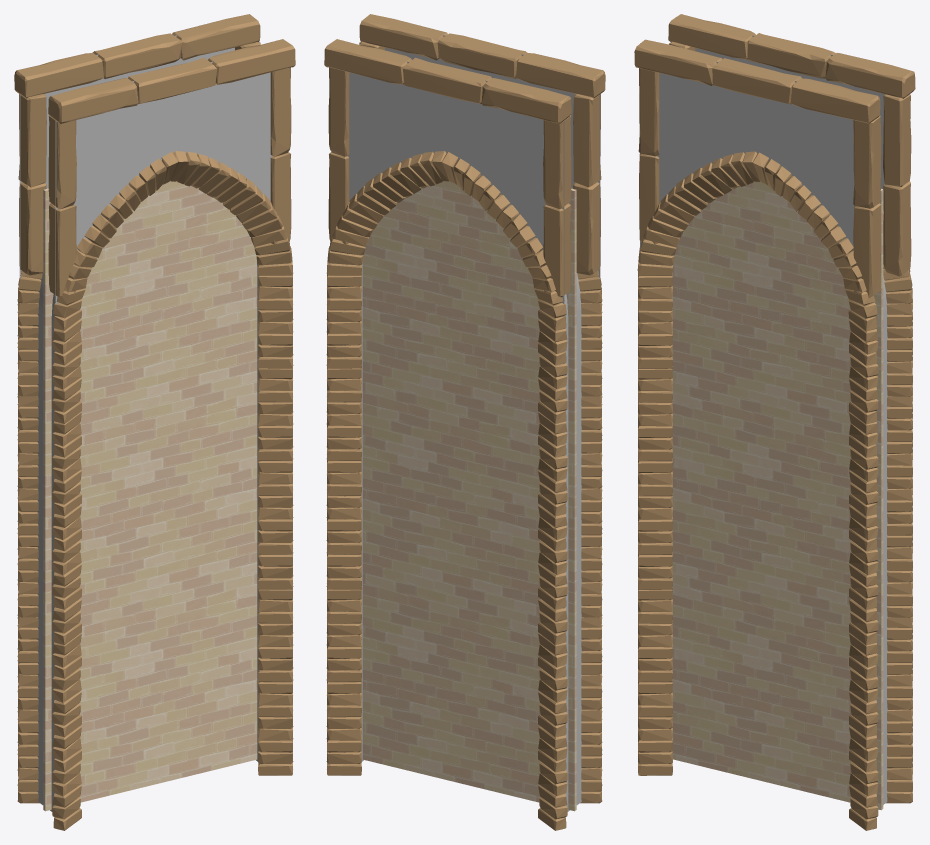
Rendered from SM_wall_arch_02.fbx.
3 views of the same model, side by side, from view 1: azimuth 30°, elevation 25°; view 2: azimuth 150°, elevation 25°; view 3: azimuth 330°, elevation 25° (orthographic).
Parts seen in each view (by area): view 1: Object32748; view 2: Object32748; view 3: Object32748.
Part boxes in pixels (box(x1,y1,x2,y2)): Object32748: box(14, 14, 295, 830); Object32748: box(324, 14, 605, 830); Object32748: box(634, 14, 915, 830).
Size of the model in its own units: 108 by 313 by 36.44.
